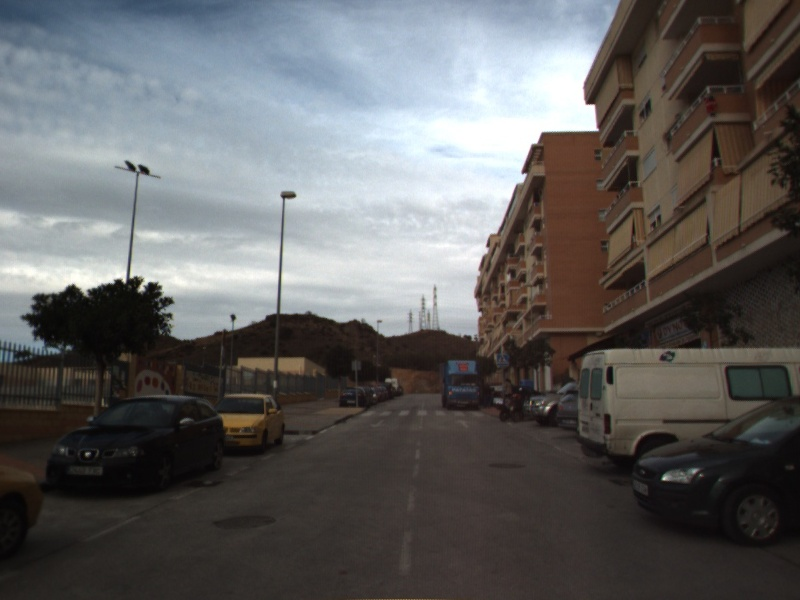STRAIGHT: (452, 416, 473, 430)
